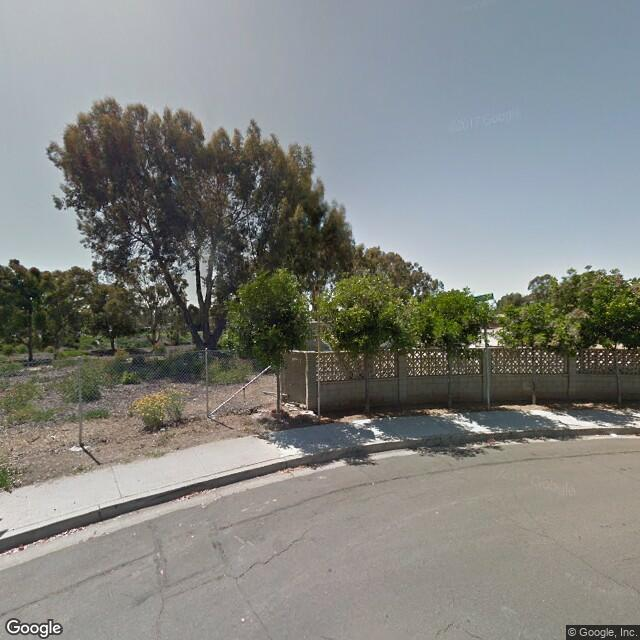litter: (69, 442, 92, 453), (158, 427, 167, 433)
